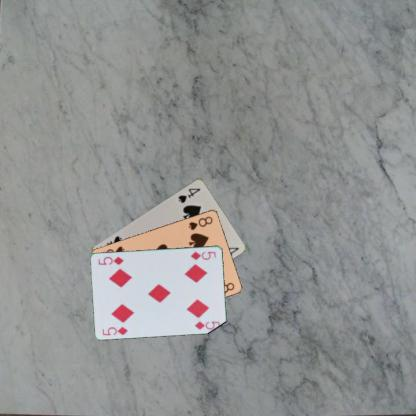4s: (176, 185, 202, 204)
5d: (188, 249, 218, 261), (100, 324, 129, 336)
8s: (186, 214, 214, 231)
